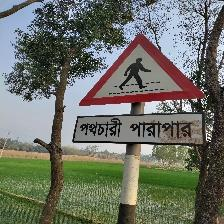Pedestrian-crossing: (76, 32, 208, 146)
